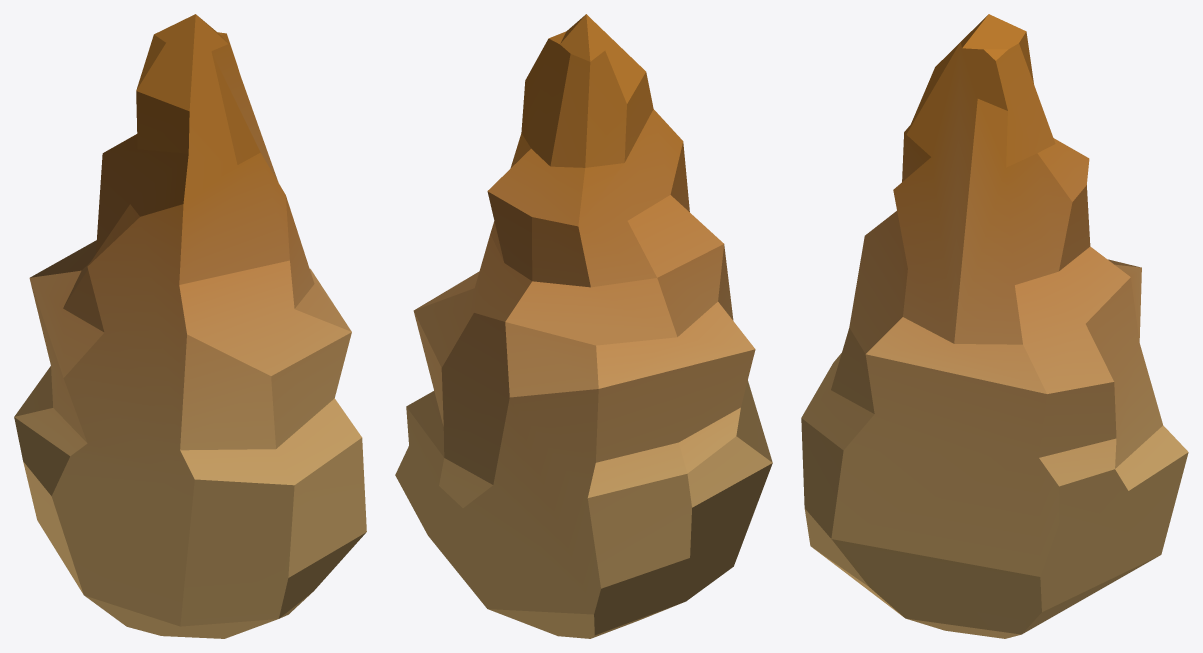
The model's file is exhaust-flame.fbx.
3 views of the same model, side by side, from view 1: azimuth 30°, elevation 25°; view 2: azimuth 150°, elevation 25°; view 3: azimuth 270°, elevation 25° (orthographic).
Parts seen in each view (by area): view 1: OuterFlame; view 2: OuterFlame; view 3: OuterFlame.
Boxes of the visible parts, bbox=[...] form: OuterFlame: bbox=[14, 14, 366, 638]; OuterFlame: bbox=[395, 14, 772, 638]; OuterFlame: bbox=[801, 14, 1188, 638].
Size of the model in its own units: 188 by 327 by 191.
